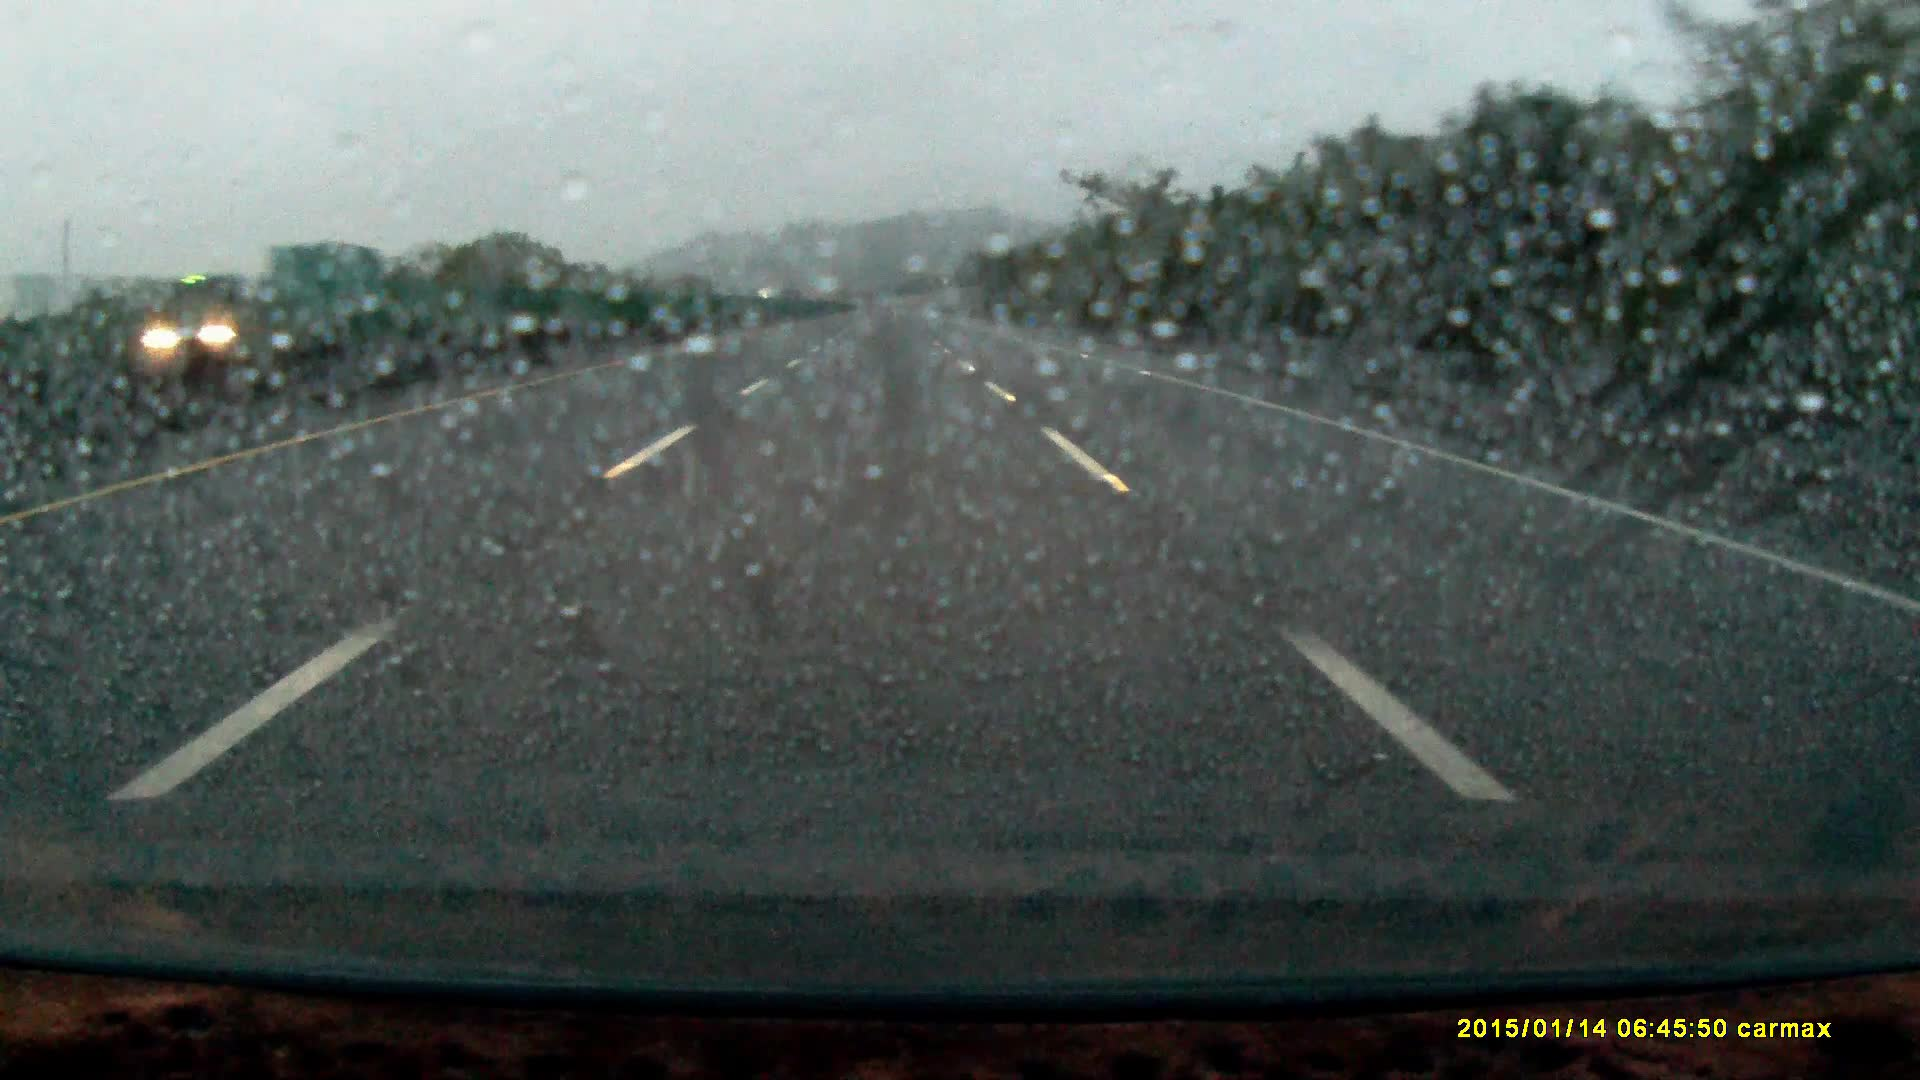vehicle: (136, 243, 392, 364)
